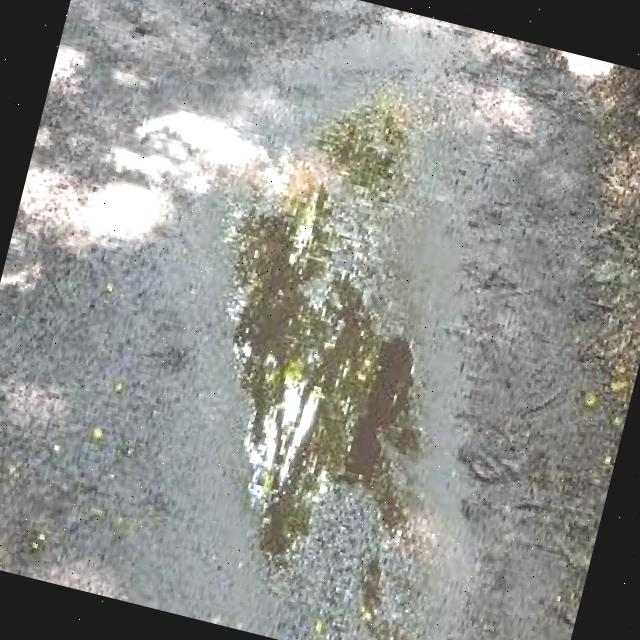stagnation: (167, 162, 488, 582)
